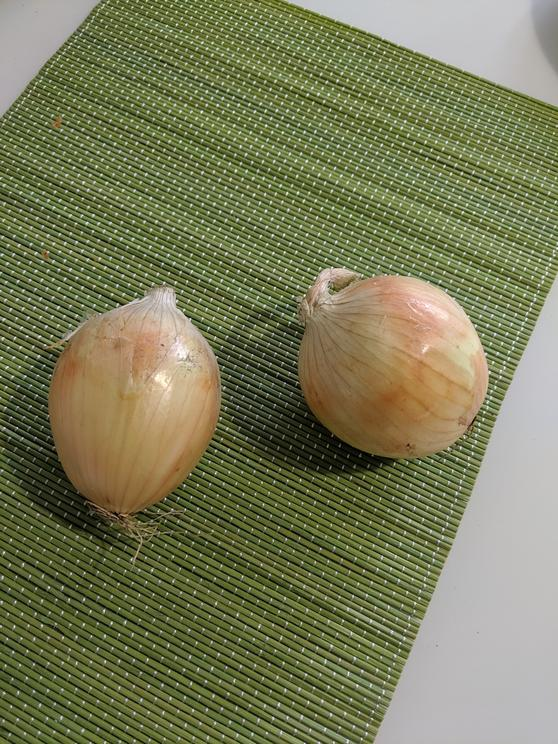onion: (48, 285, 225, 524), (289, 263, 495, 462)
